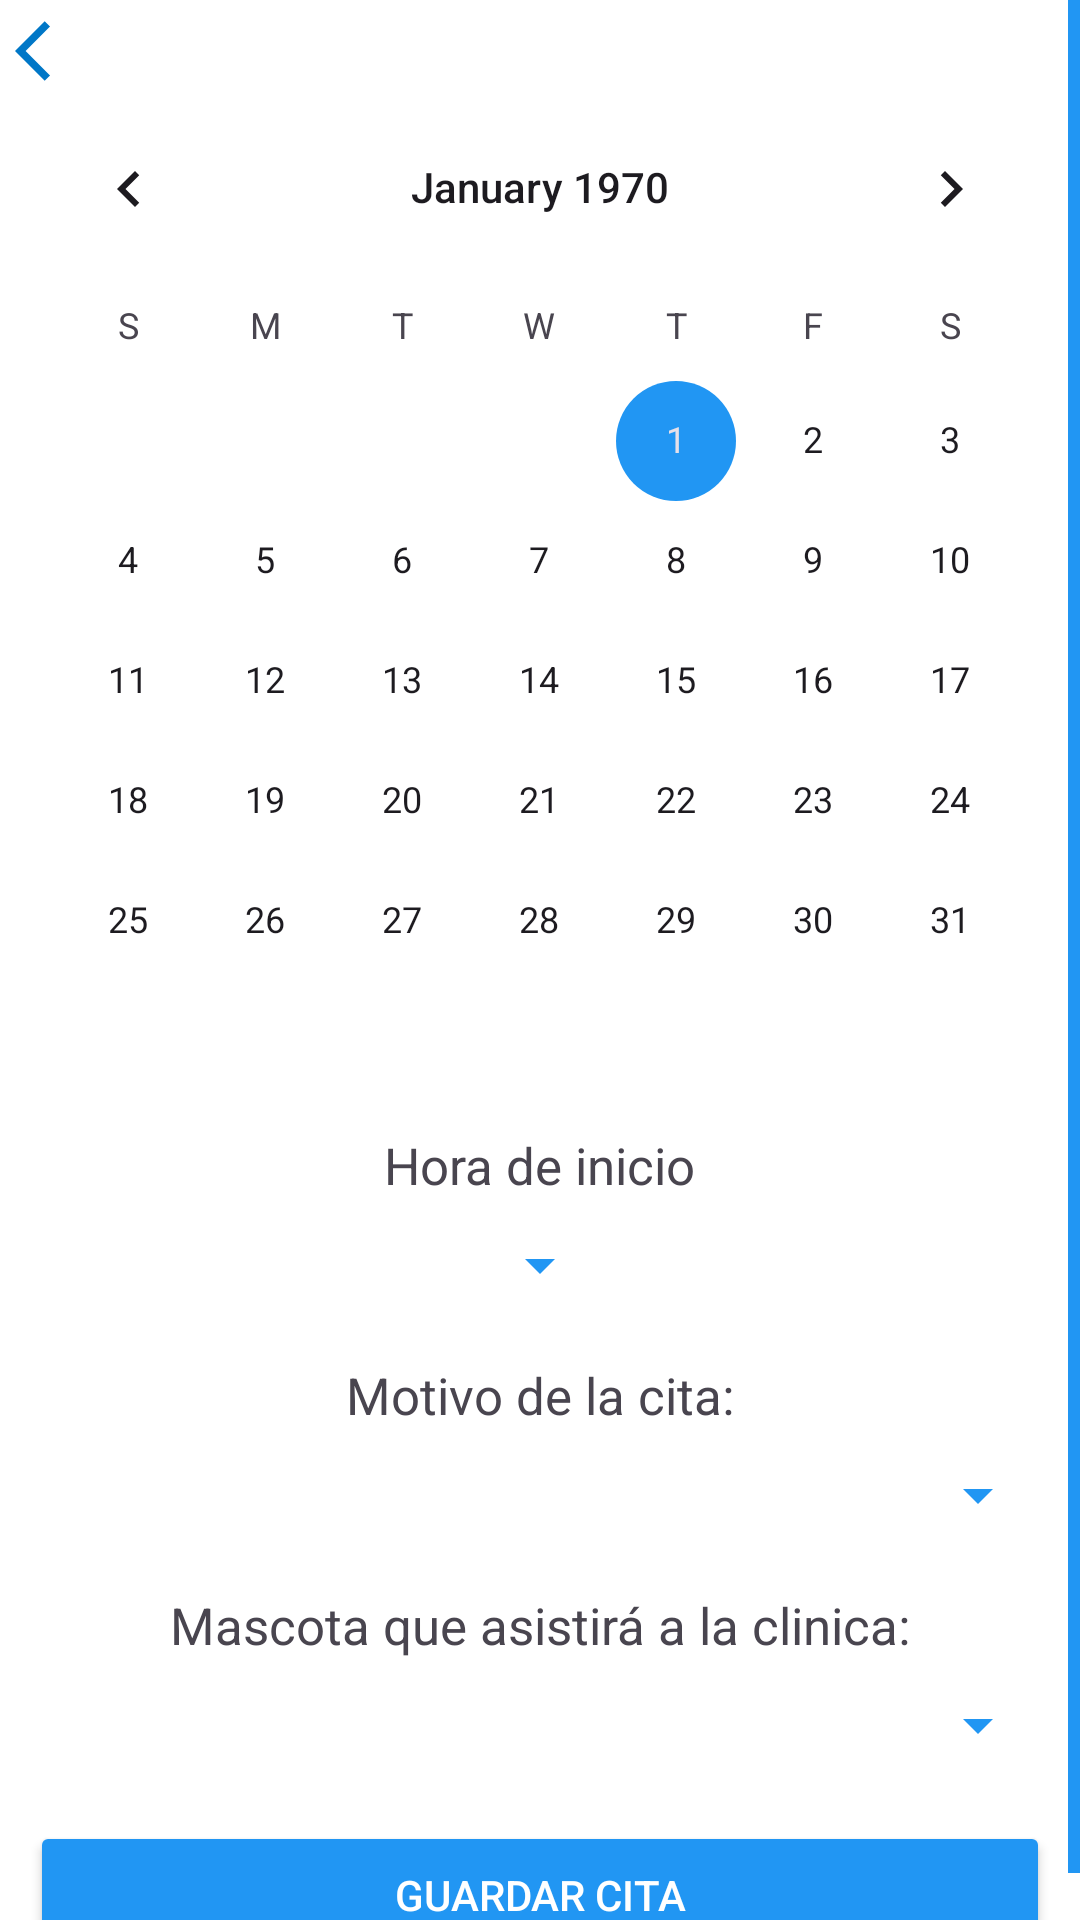

Point at icon controls on the screen. Image size 1080×1920, points as (x,y).
arrow back: (32,51)
